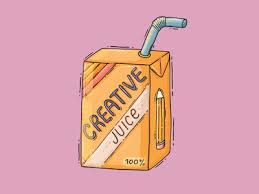Juice_Box: (82, 39, 176, 171)
